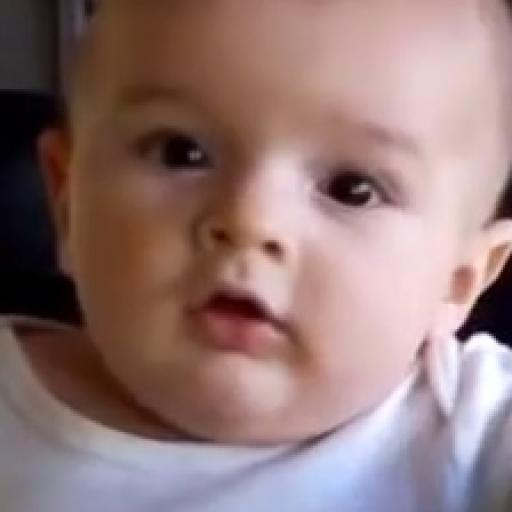Autism: (76, 6, 512, 432)
